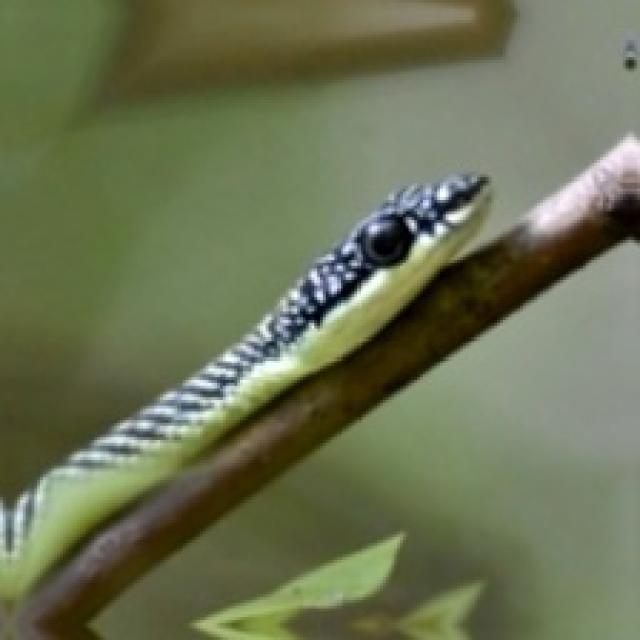paradise tree snake: (0, 174, 489, 617)
